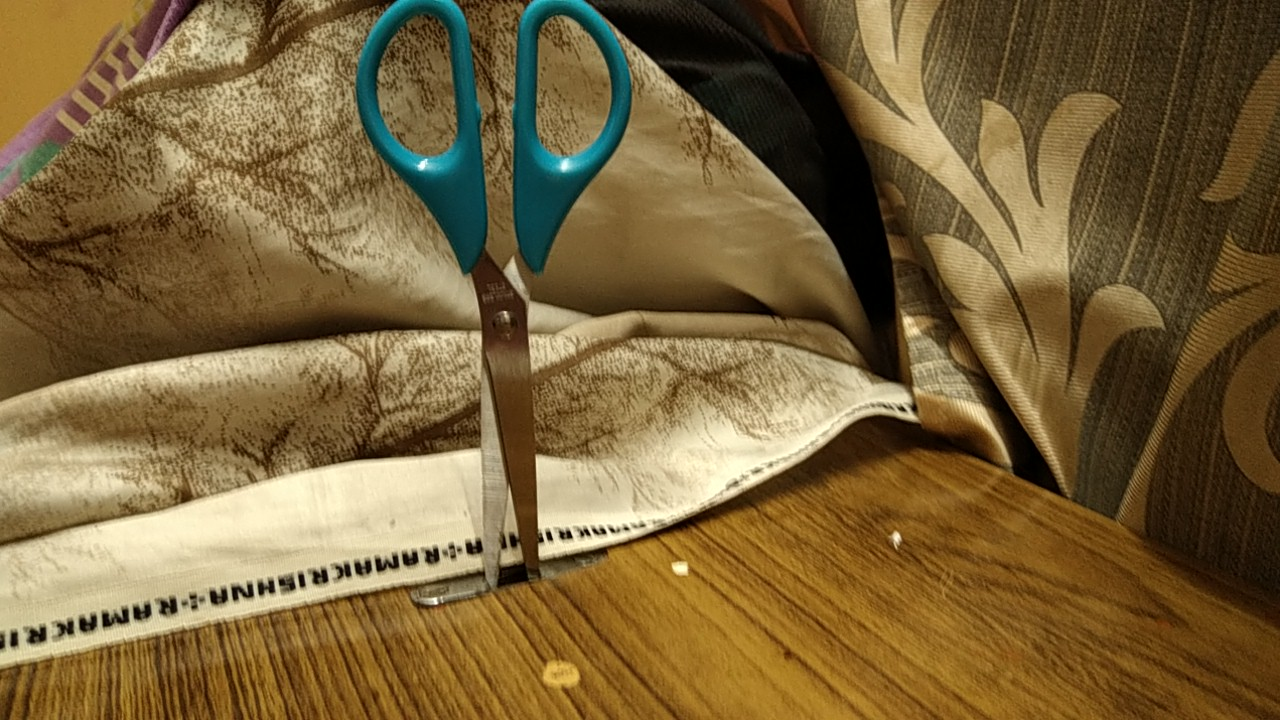scissor: (340, 1, 644, 611)
